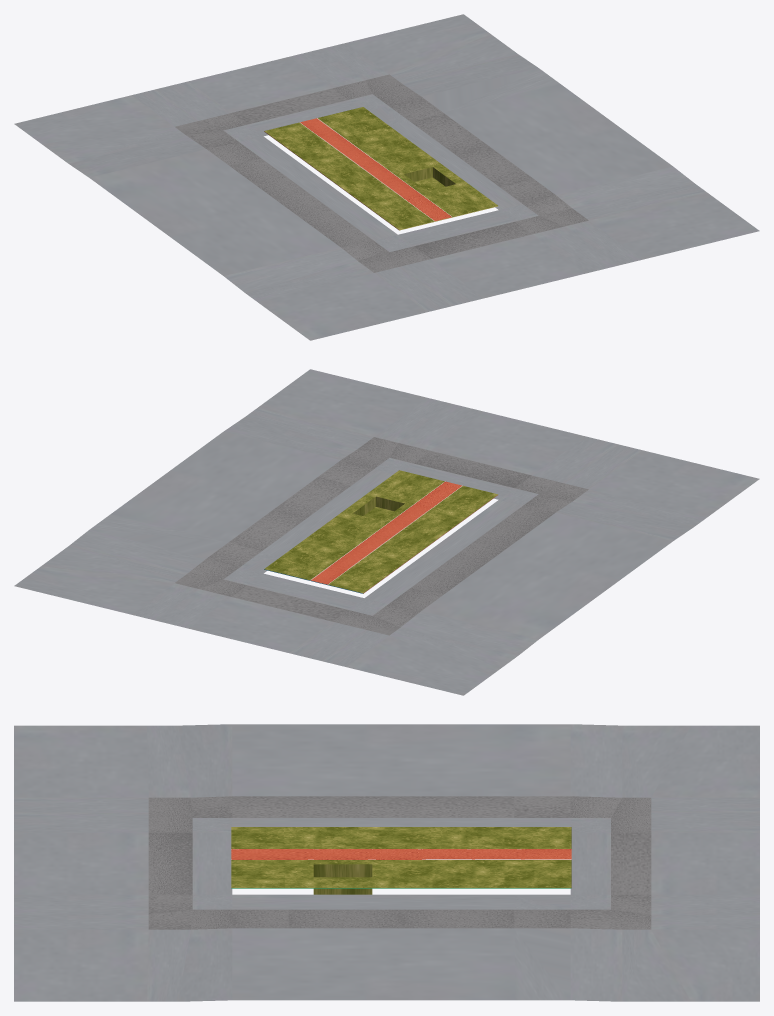
Rendered from parkbaseplane.fbx.
3 views of the same model, one above another, from view 1: azimuth 30°, elevation 25°; view 2: azimuth 150°, elevation 25°; view 3: azimuth 270°, elevation 25° (orthographic). The views are drawn at different scales.
Visible parts, largest first — view 1: plane, mesh; view 2: plane, mesh; view 3: plane, mesh.
Part boxes in pixels (<box>): plane: <box>14,14,759,340</box>; mesh: <box>264,107,497,230</box>; plane: <box>14,369,759,695</box>; mesh: <box>264,470,498,593</box>; plane: <box>14,724,759,1001</box>; mesh: <box>231,827,571,894</box>.
Size of the model in its own units: 1281 by 28.12 by 1462.
Materials: 2 (2 with a texture image).
